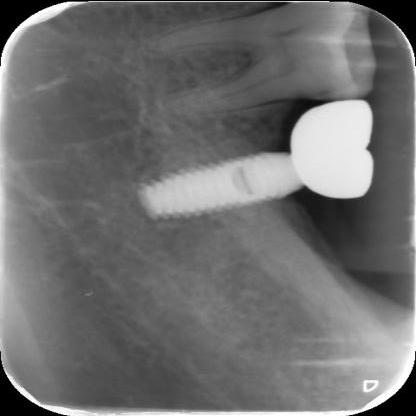Bicon: (127, 139, 330, 227)
